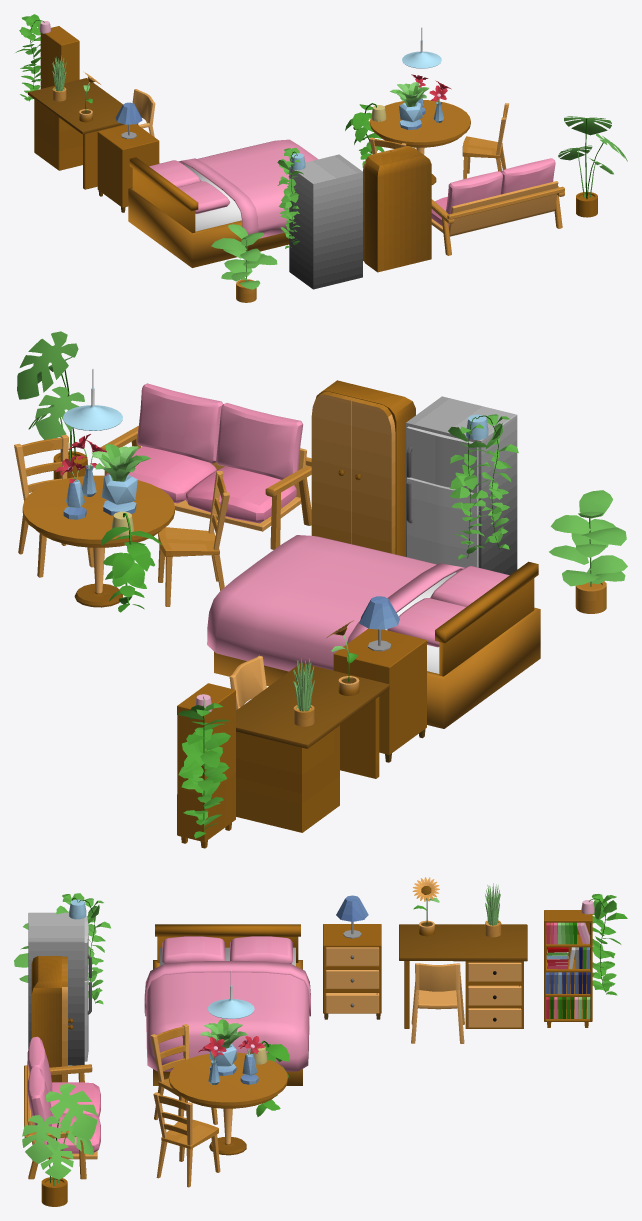
Rendered from Perabotan.glb.
The picture shows the model from 3 angles, top to bottom: view 1: azimuth 30°, elevation 25°; view 2: azimuth 150°, elevation 25°; view 3: azimuth 270°, elevation 25°; orthographic projection. The views are drawn at different scales.
Parts seen in each view (by area): view 1: Cube.032, Cube.021, Cube.005, Cube.006, Cube.008, Circle.001, Cube.007, Cube.009, Cube.033, Circle.009, Plane.005, Cube.017 (+11 smaller); view 2: Cube.032, Cube.005, Cube.021, Cube.008, Cube.033, Circle.001, Cube.006, Cube.007, Cube.030, Cube.017, Circle.009, Plane.005 (+14 smaller); view 3: Cube.032, Cube.021, Cube.006, Circle.001, Plane.005, Cube.007, Cube.005, Cube.010, Cube.017, Cube.001, Cube.015, Cube.050 (+18 smaller).
Boxes of the visible parts, x1,y1,x2,y2 form: Cube.032: (128, 139, 317, 267); Cube.021: (289, 154, 362, 289); Cube.005: (363, 146, 431, 272); Cube.006: (97, 124, 159, 212); Cube.008: (34, 99, 138, 189); Circle.001: (370, 100, 470, 184); Cube.007: (28, 78, 123, 134); Cube.009: (431, 181, 558, 236); Cube.033: (446, 158, 555, 214); Circle.009: (211, 224, 277, 302); Plane.005: (558, 116, 627, 217); Cube.017: (40, 26, 79, 88); Cube.032: (207, 535, 540, 728); Cube.005: (311, 380, 415, 556); Cube.021: (406, 396, 517, 575); Cube.008: (236, 696, 379, 832); Cube.033: (136, 383, 303, 479); Circle.001: (22, 475, 174, 607); Cube.006: (333, 628, 426, 762); Cube.007: (236, 663, 389, 748); Cube.030: (106, 446, 296, 523); Cube.017: (177, 683, 235, 848); Circle.009: (549, 490, 627, 613); Plane.005: (17, 331, 87, 479); Cube.032: (144, 924, 310, 1085); Cube.021: (28, 912, 91, 1065); Cube.006: (323, 924, 381, 1019); Circle.001: (169, 1052, 287, 1155); Plane.005: (22, 1083, 97, 1206); Cube.007: (399, 924, 527, 961); Cube.005: (31, 956, 73, 1082); Cube.010: (468, 962, 521, 1027); Cube.017: (544, 910, 592, 1027); Cube.001: (153, 1092, 220, 1187); Cube.015: (411, 963, 464, 1043); Cube.050: (581, 894, 627, 995).
Bounding box in the file's own units: 4.55 × 1.65 × 5.09.
4 materials, 3 textured.
